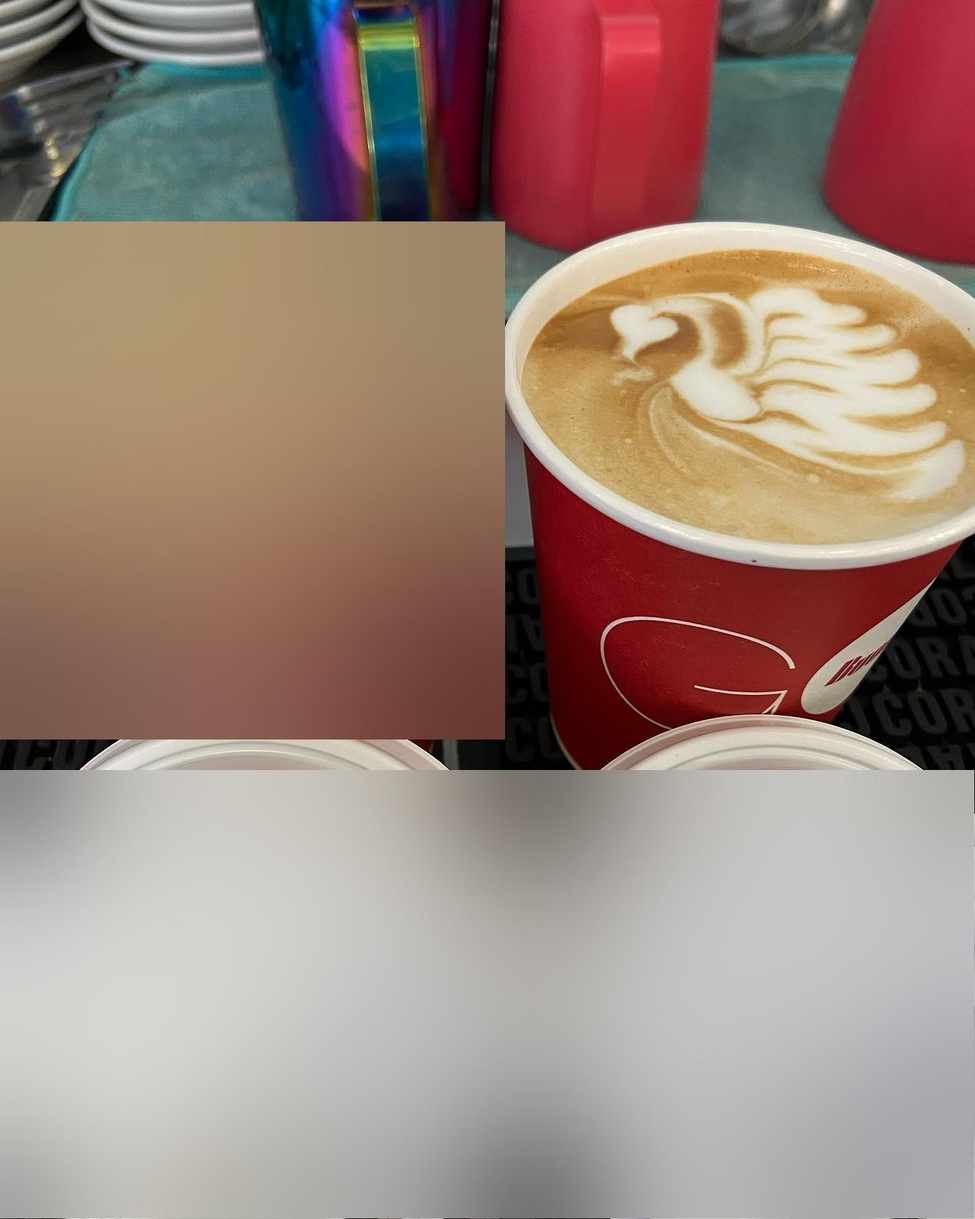cup-disposable: (500, 215, 975, 746)
